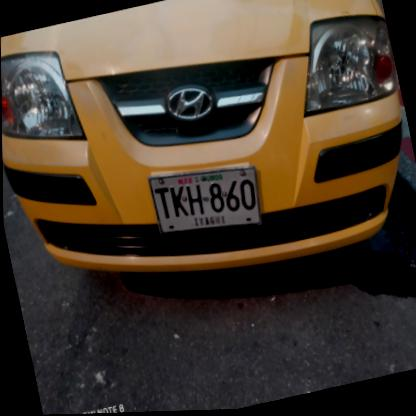placa: (140, 148, 271, 254)
